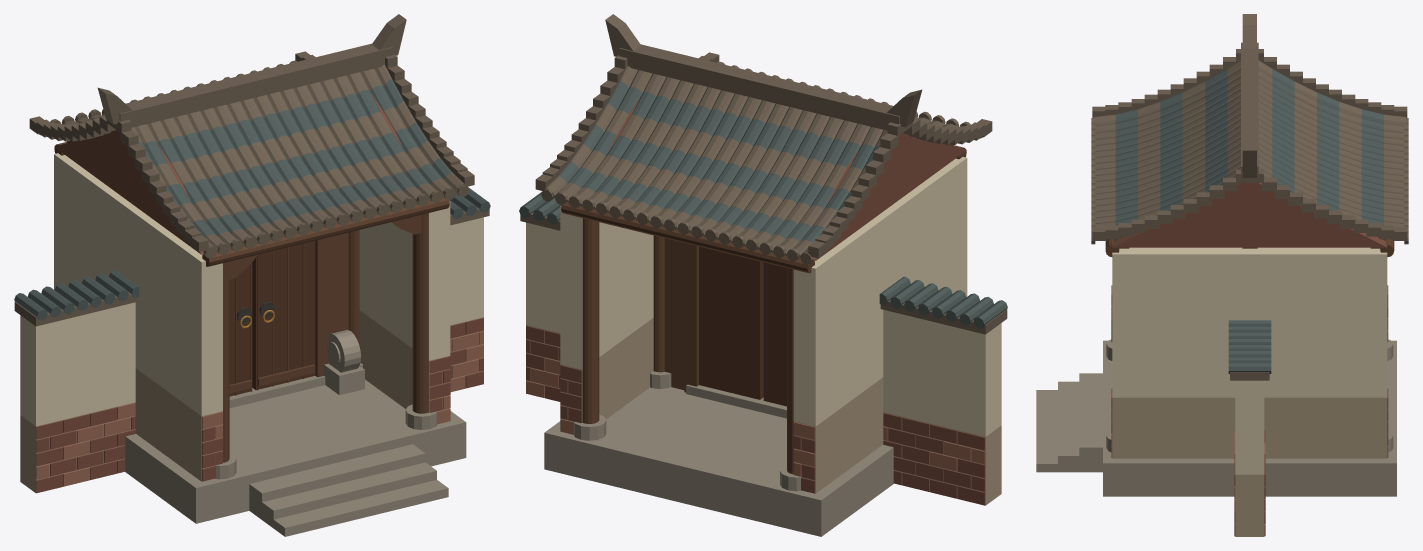
File: Guangliang_Gate.obj
3 views of the same model, side by side, from view 1: azimuth 30°, elevation 25°; view 2: azimuth 150°, elevation 25°; view 3: azimuth 270°, elevation 25° (orthographic). The views are drawn at different scales.
Visible parts, largest first — view 1: Side_wall_plaster_0129, Platform_0000, Courtyard_plaster_0049, Side_wall_plaster_0146, Door_leaves_0178, Main_ridge_0527, Walls_0114, Gable_wall_0130, Steps_0003, Walls_0131, Steps_0002, Steps_0001 (+16 smaller); view 2: Platform_0000, Side_wall_plaster_0129, Courtyard_plaster_0049, Side_wall_plaster_0146, Door_leaves_0178, Main_ridge_0527, Walls_0114, Gable_wall_0130, Walls_0131, Timber_columns_0156, Courtyard_plaster_0104, Door_leaves_0168 (+11 smaller); view 3: Side_wall_plaster_0146, Walls_0131, Platform_0000, Gable_wall_0147, Courtyard_plaster_0104, Steps_0003, Steps_0002, Main_ridge_0527, Walls_0059, Steps_0001, Ridge_end_0528.
Part boxes in pixels (bbox=[...]): Side_wall_plaster_0129: bbox=[54, 153, 222, 416]; Platform_0000: bbox=[125, 379, 466, 523]; Courtyard_plaster_0049: bbox=[20, 302, 135, 426]; Side_wall_plaster_0146: bbox=[359, 201, 450, 360]; Door_leaves_0178: bbox=[252, 241, 315, 389]; Main_ridge_0527: bbox=[119, 43, 393, 127]; Walls_0114: bbox=[135, 368, 222, 481]; Gable_wall_0130: bbox=[54, 130, 203, 254]; Steps_0003: bbox=[249, 444, 425, 519]; Walls_0131: bbox=[359, 310, 450, 412]; Steps_0002: bbox=[261, 462, 436, 528]; Steps_0001: bbox=[272, 480, 448, 536]; Platform_0000: bbox=[544, 387, 894, 536]; Side_wall_plaster_0129: bbox=[793, 157, 967, 426]; Courtyard_plaster_0049: bbox=[883, 309, 1001, 436]; Side_wall_plaster_0146: bbox=[560, 206, 653, 369]; Door_leaves_0178: bbox=[699, 246, 763, 399]; Main_ridge_0527: bbox=[619, 44, 899, 130]; Walls_0114: bbox=[793, 377, 883, 493]; Gable_wall_0130: bbox=[813, 133, 966, 260]; Walls_0131: bbox=[560, 318, 653, 422]; Timber_columns_0156: bbox=[582, 218, 599, 423]; Courtyard_plaster_0104: bbox=[526, 222, 560, 332]; Door_leaves_0168: bbox=[763, 262, 786, 406]; Side_wall_plaster_0146: bbox=[1112, 247, 1387, 397]; Walls_0131: bbox=[1112, 397, 1387, 458]; Platform_0000: bbox=[1103, 340, 1396, 496]; Gable_wall_0147: bbox=[1112, 183, 1387, 247]; Courtyard_plaster_0104: bbox=[1235, 380, 1264, 474]; Steps_0003: bbox=[1079, 373, 1102, 472]; Steps_0002: bbox=[1058, 381, 1081, 472]; Main_ridge_0527: bbox=[1241, 42, 1258, 173]; Walls_0059: bbox=[1235, 474, 1264, 536]; Steps_0001: bbox=[1036, 390, 1057, 472]; Ridge_end_0528: bbox=[1242, 14, 1256, 48].
Size of the model in its own units: 6.38 by 5.1 by 4.87.
